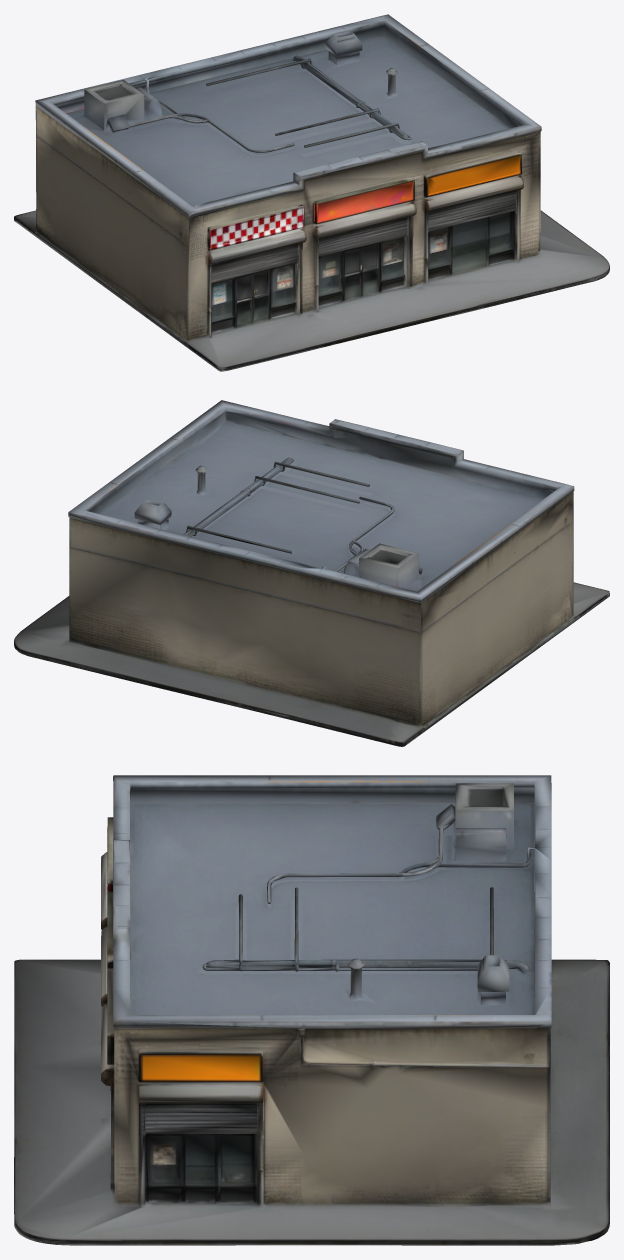
File: corner_fastfood.glb
The picture shows the model from 3 angles, top to bottom: view 1: azimuth 30°, elevation 25°; view 2: azimuth 150°, elevation 25°; view 3: azimuth 270°, elevation 25°; orthographic projection. The views are drawn at different scales.
Visible parts, largest first — view 1: node_0; view 2: node_0; view 3: node_0.
Boxes of the visible parts, x1,y1,x2,y2 form: node_0: [14, 14, 609, 371]; node_0: [14, 400, 609, 746]; node_0: [14, 775, 609, 1245].
Bounding box in the file's own units: 0.8697 × 0.3015 × 0.7797.
1 material, 1 textured.
